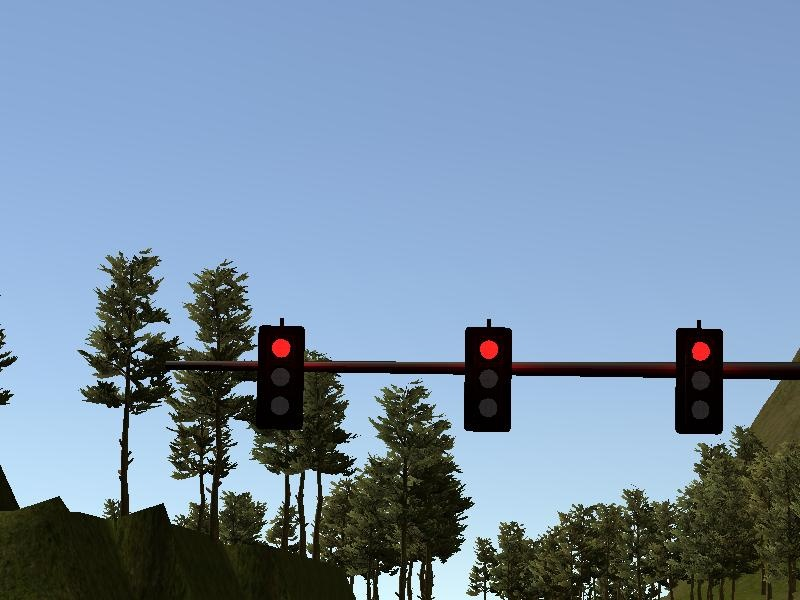Red: (459, 323, 515, 435), (673, 323, 725, 436), (256, 323, 306, 433)
